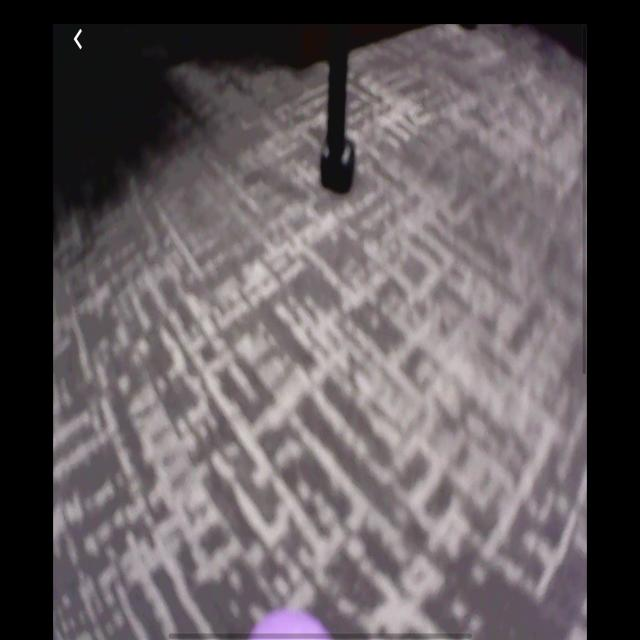ball: (247, 609, 334, 640)
